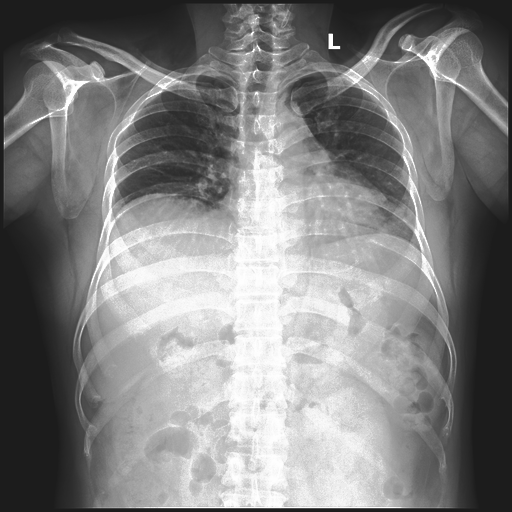Nodule/Mass: (217, 174, 391, 239)
